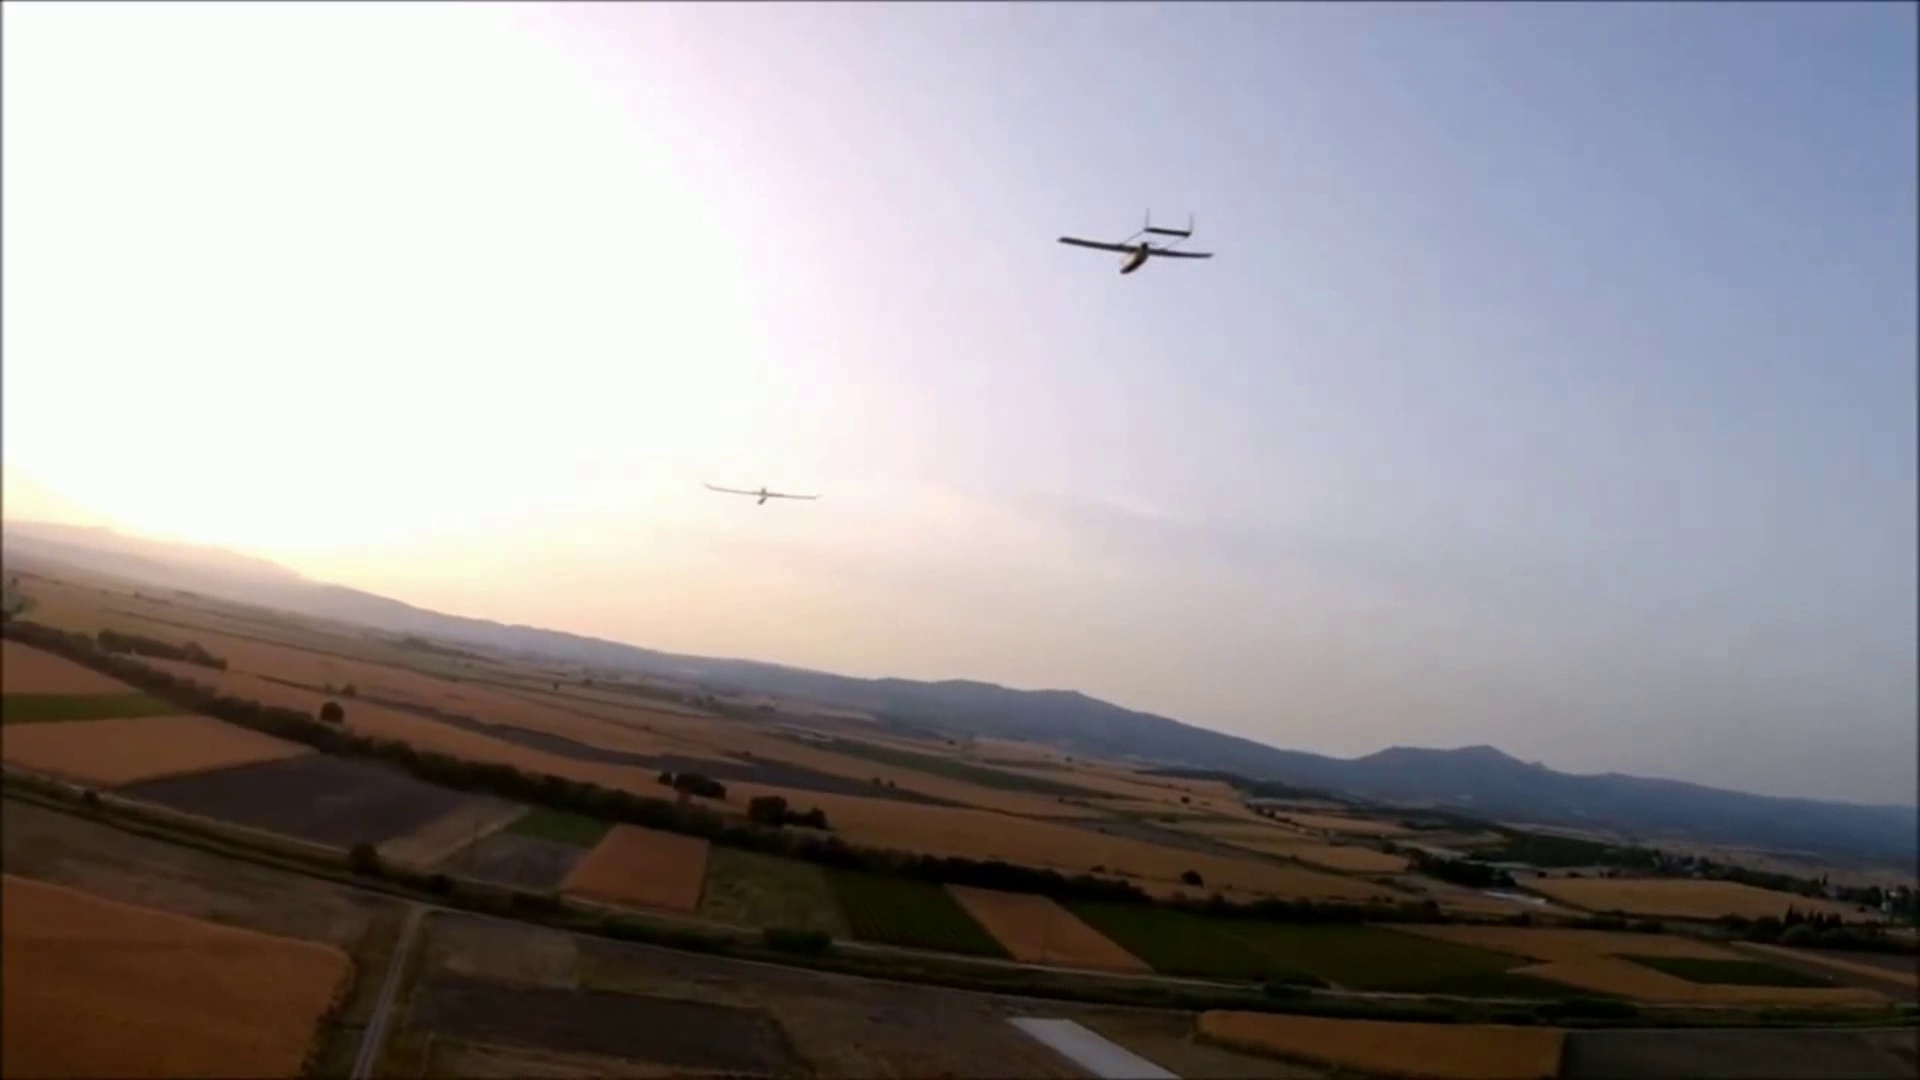airplane: (8, 463, 1772, 930), (1056, 204, 1212, 272), (700, 473, 822, 502)
